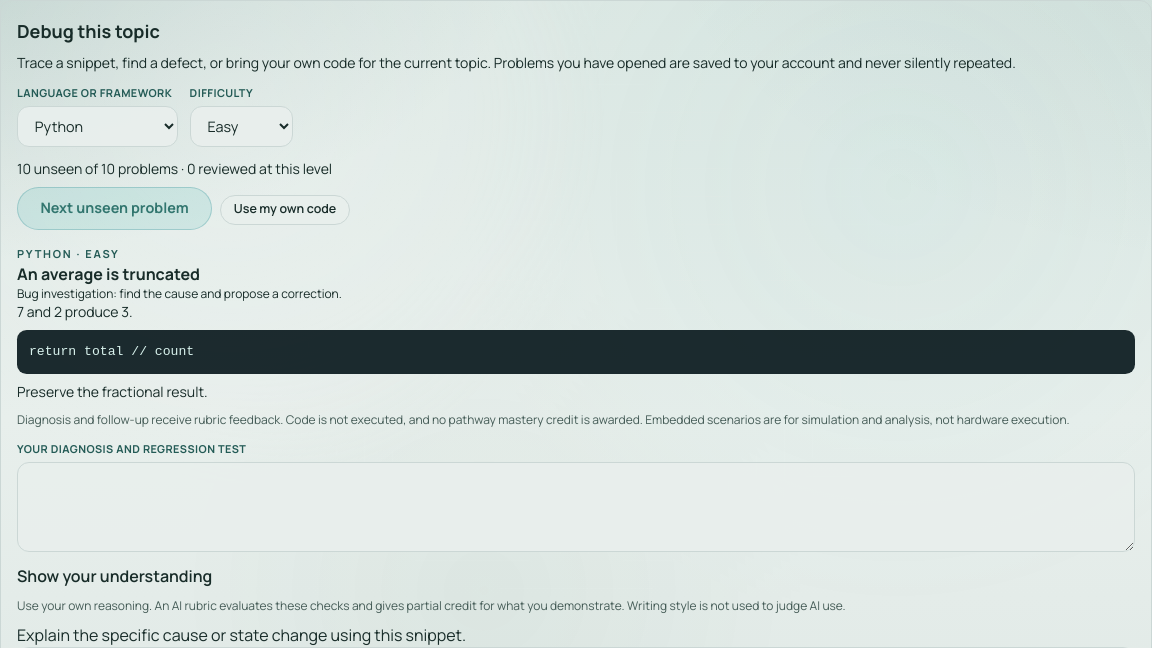
Test: can return to the existing bring-your-own-code workflow
Click the button "Use my own code": (285,210) [220,194,350,225]
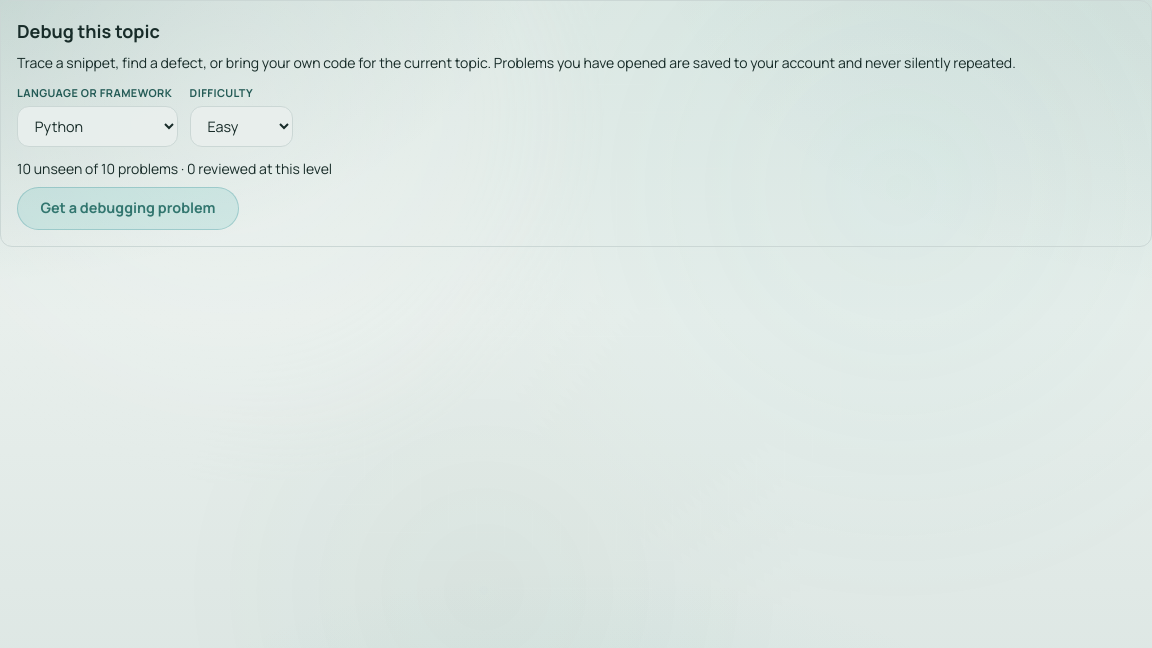
Now the heading "An average is truncated" is gone
